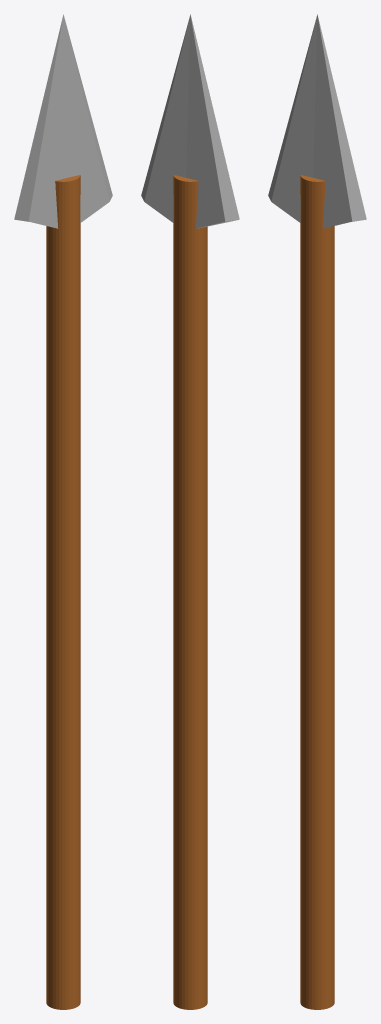
The model's file is simpleSpear.fbx.
3 views of the same model, side by side, from view 1: azimuth 30°, elevation 25°; view 2: azimuth 150°, elevation 25°; view 3: azimuth 330°, elevation 25° (orthographic).
Parts seen in each view (by area): view 1: Handle, Point; view 2: Handle, Point; view 3: Handle, Point.
Boxes of the visible parts, bbox=[...] form: Handle: bbox=[46, 175, 80, 1009]; Point: bbox=[14, 14, 112, 228]; Handle: bbox=[173, 175, 207, 1009]; Point: bbox=[141, 14, 239, 228]; Handle: bbox=[300, 175, 334, 1009]; Point: bbox=[268, 14, 366, 228].
Bounding box in the file's own units: 99.8 × 955 × 30.
